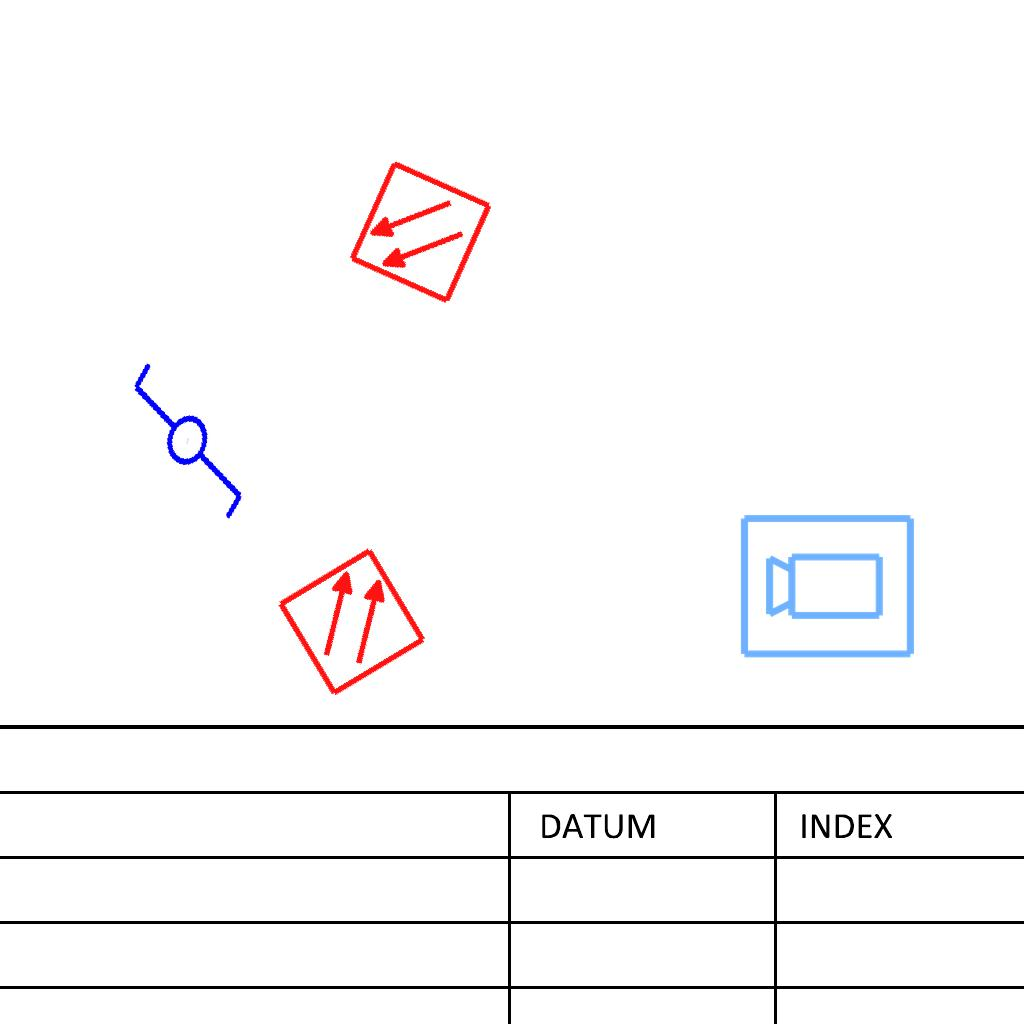KFO_Kamera_mit_Festobjektiv: (737, 508, 919, 662)
RMO_Rauchmelder_optischer: (273, 543, 430, 700), (345, 157, 496, 308)
Wechselschalter: (102, 339, 281, 527)
